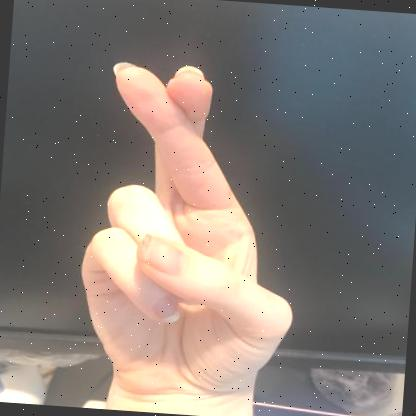R: (81, 63, 292, 407)
